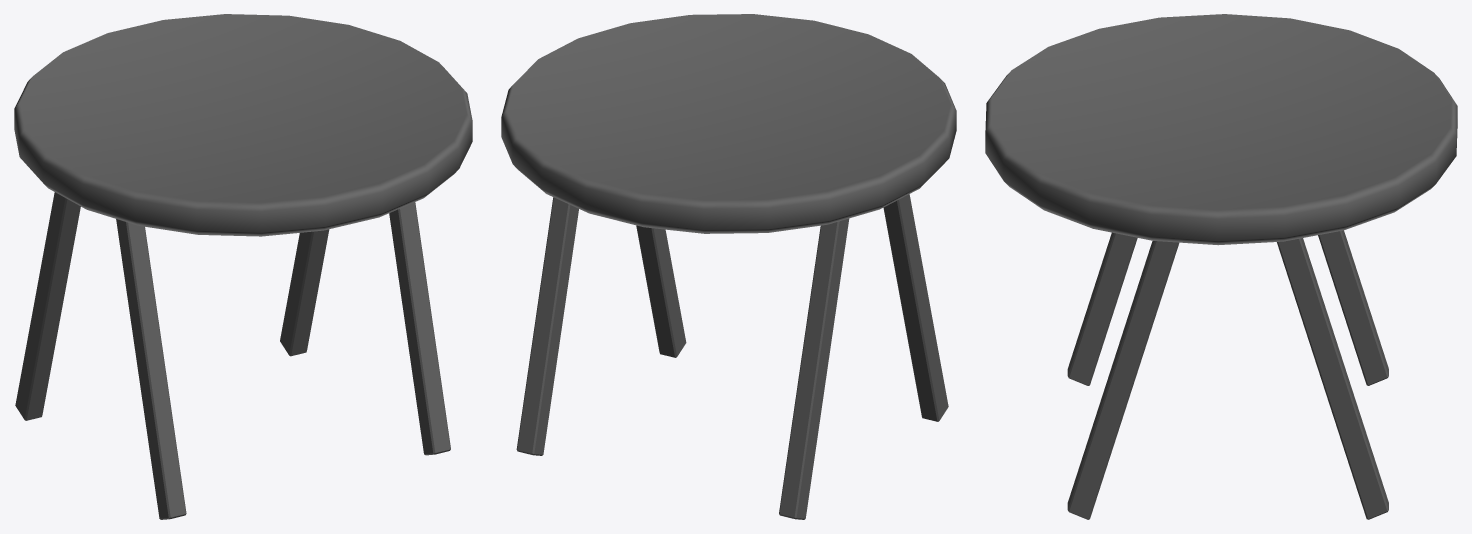
The model's file is Side_Table_309_1_TableMesh.obj.
The picture shows the model from 3 angles, left to right: view 1: azimuth 30°, elevation 25°; view 2: azimuth 150°, elevation 25°; view 3: azimuth 270°, elevation 25°; orthographic projection. The views are drawn at different scales.
Bounding box in the file's own units: 0.6725 × 0.5314 × 0.6671.
